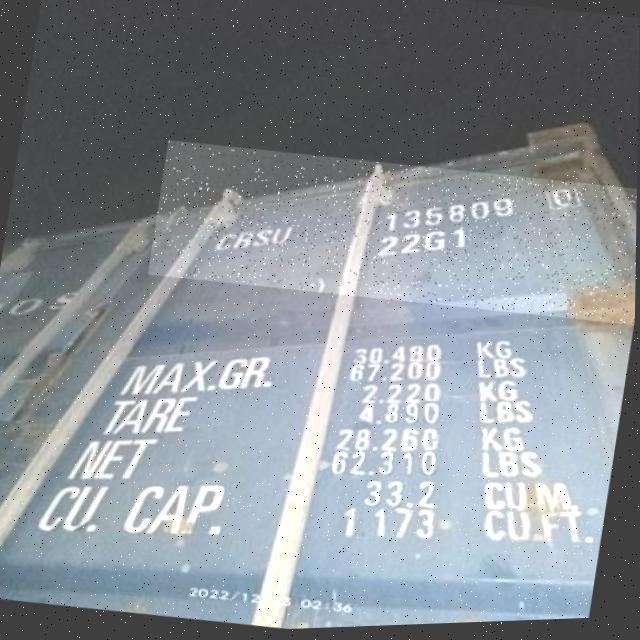container_number_h: (148, 127, 638, 344)
